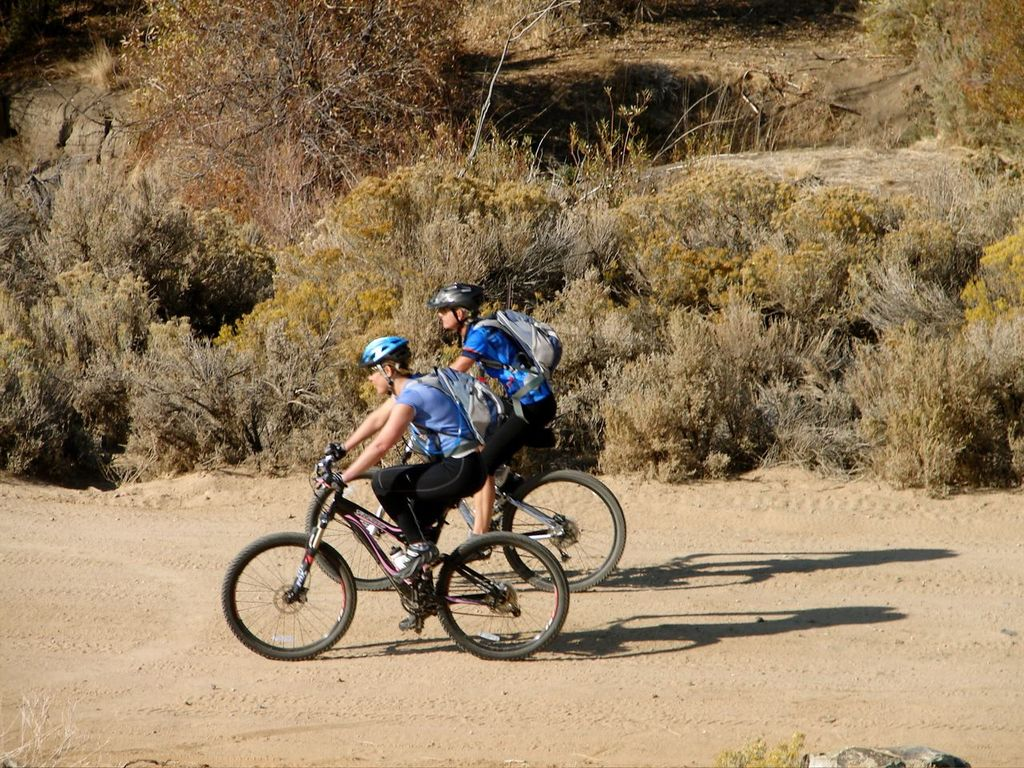Bike: (222, 456, 571, 664)
